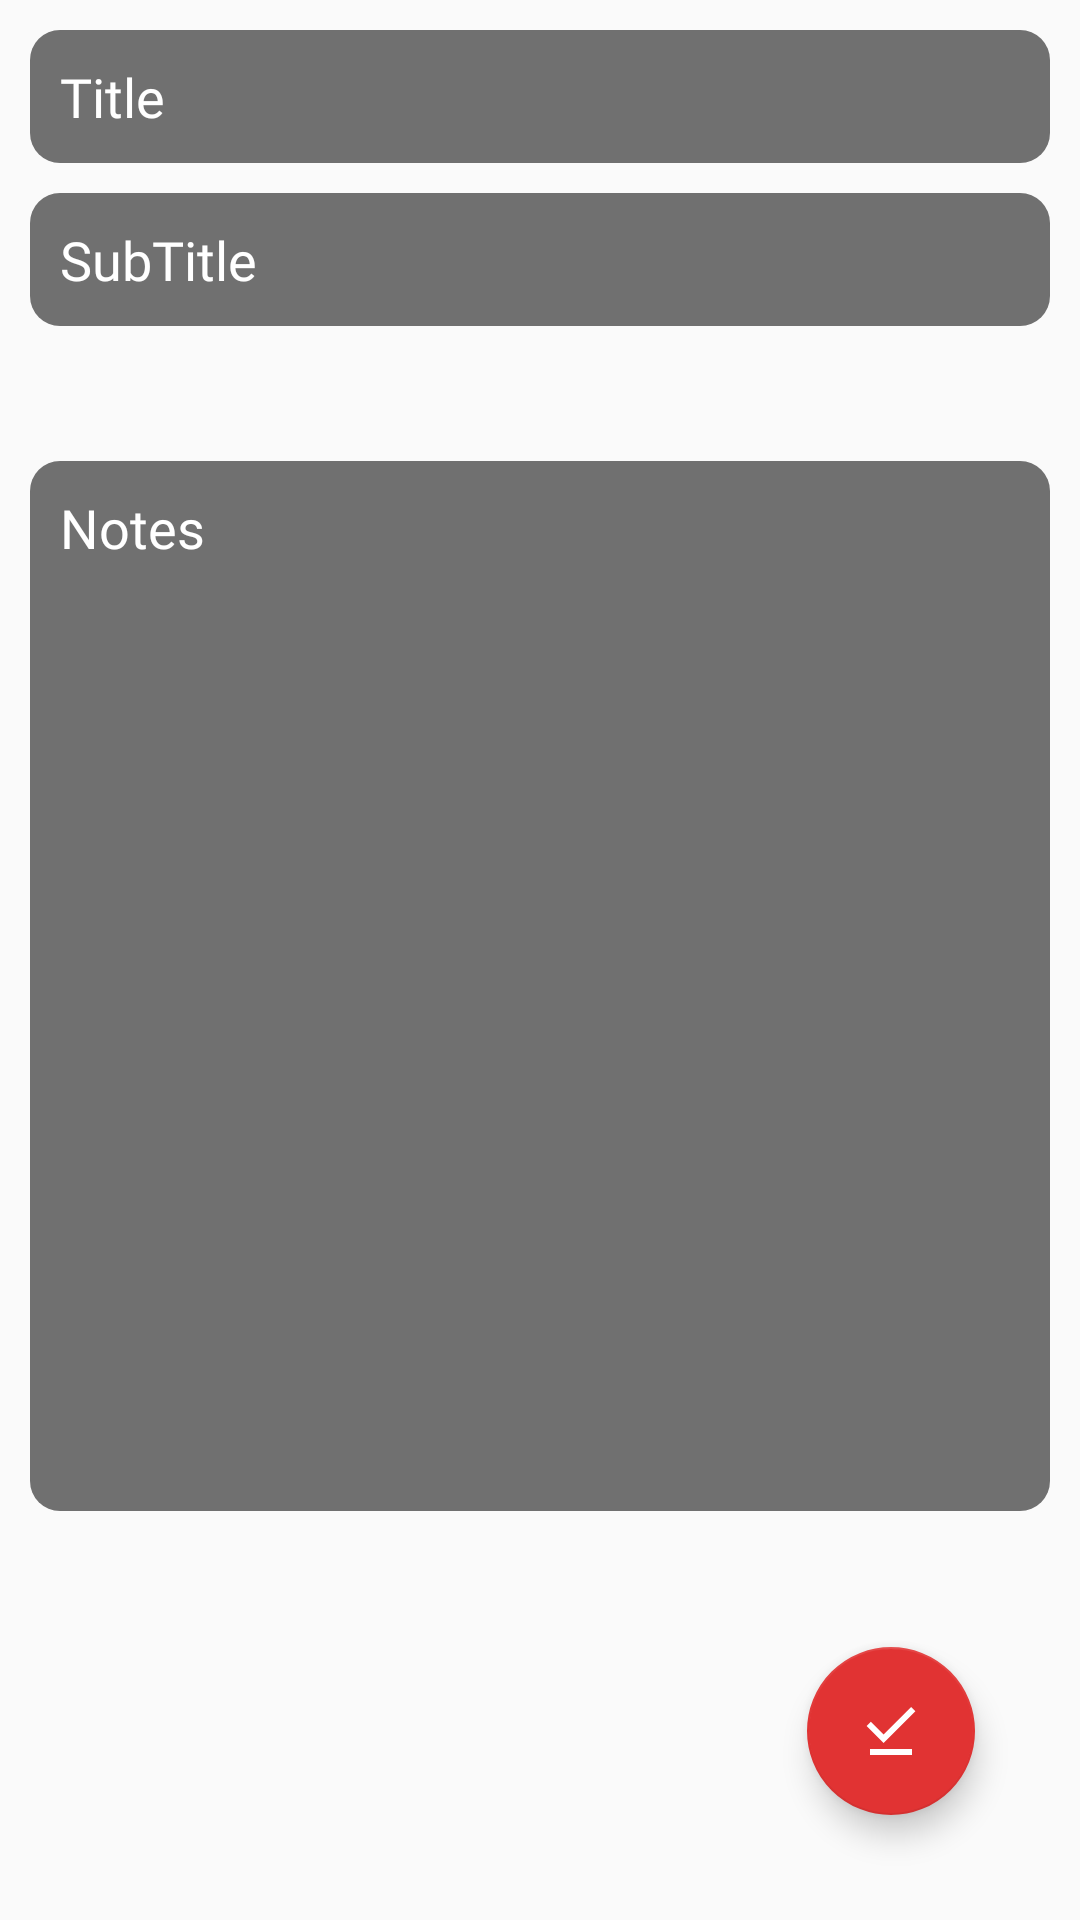

Named icons in this screenshot (1080x1920) and their bounding boxes, (x1, y1, x2, y2):
download done: (807, 1647, 975, 1815)
